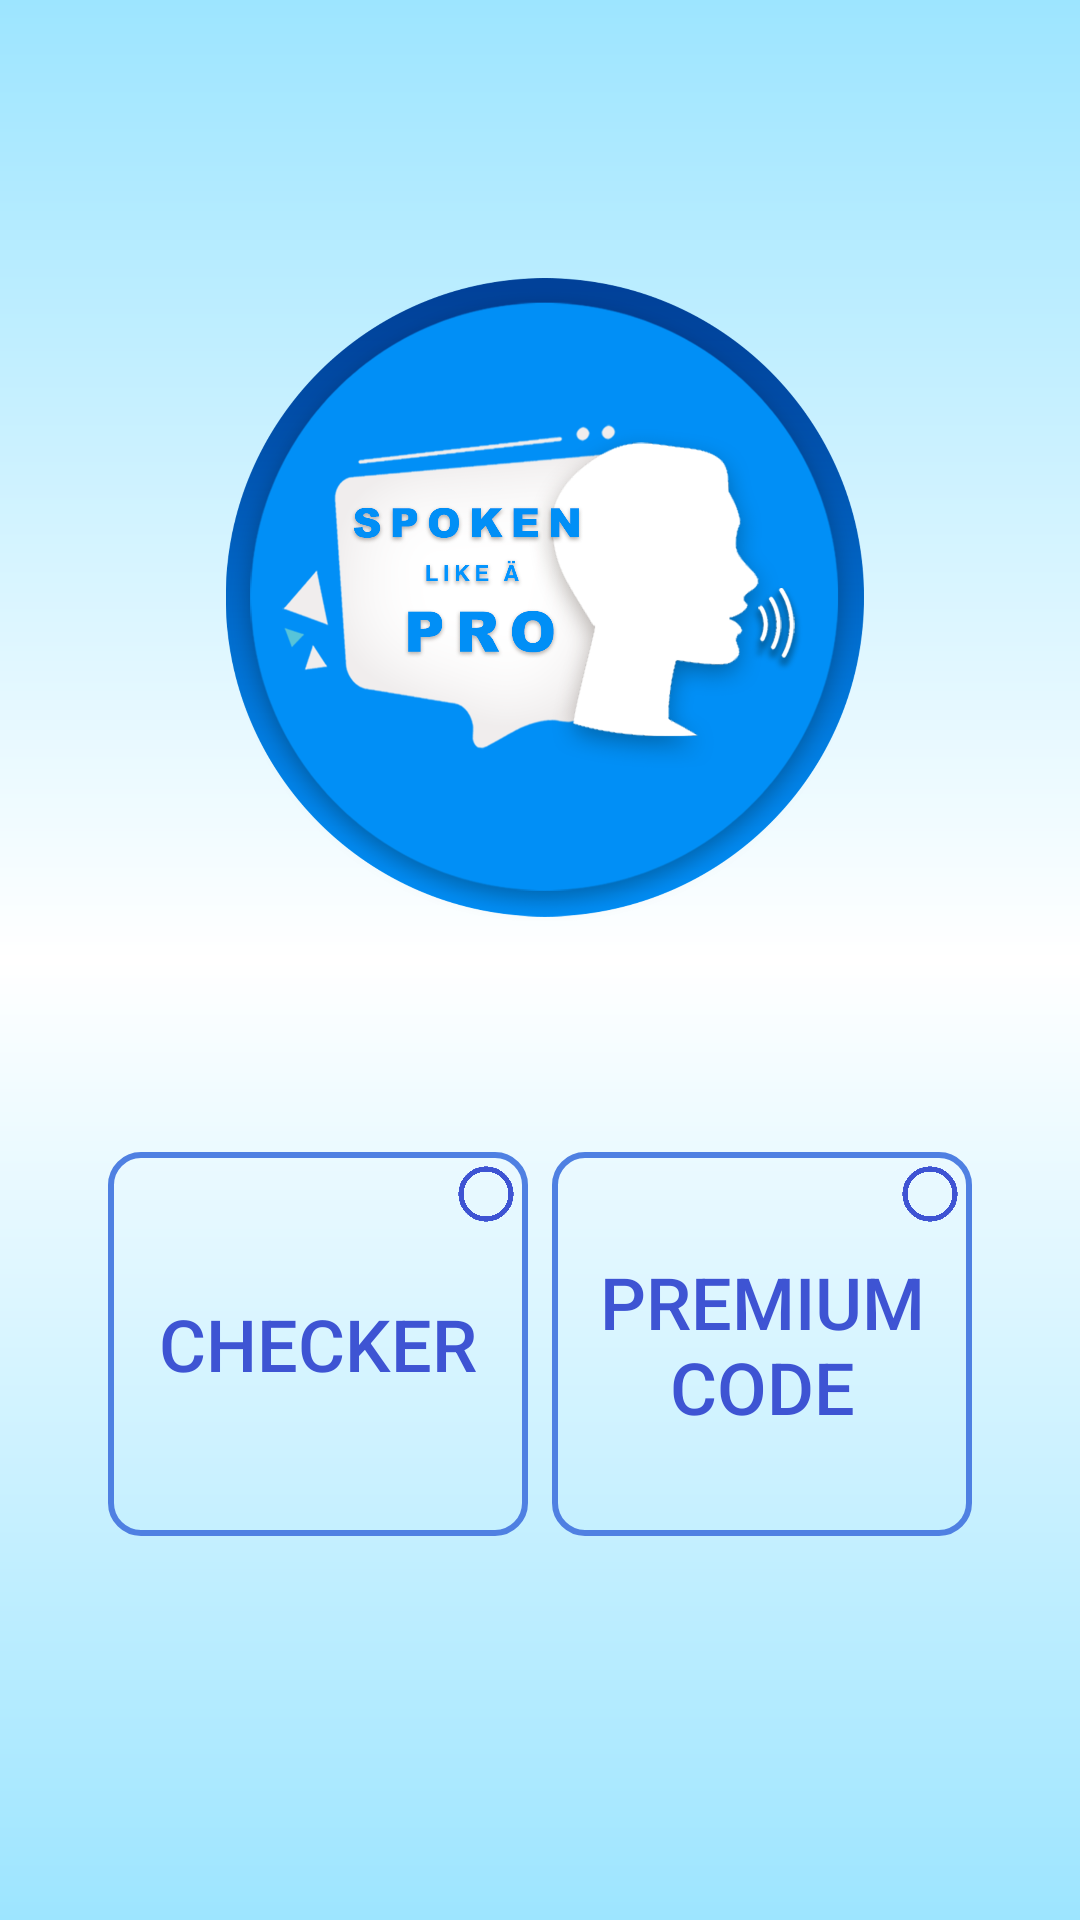

Icons on this 1080 x 1920 Android screen, each with the point to tap as (x,y):
not checked: (486,1194), (930,1194)
